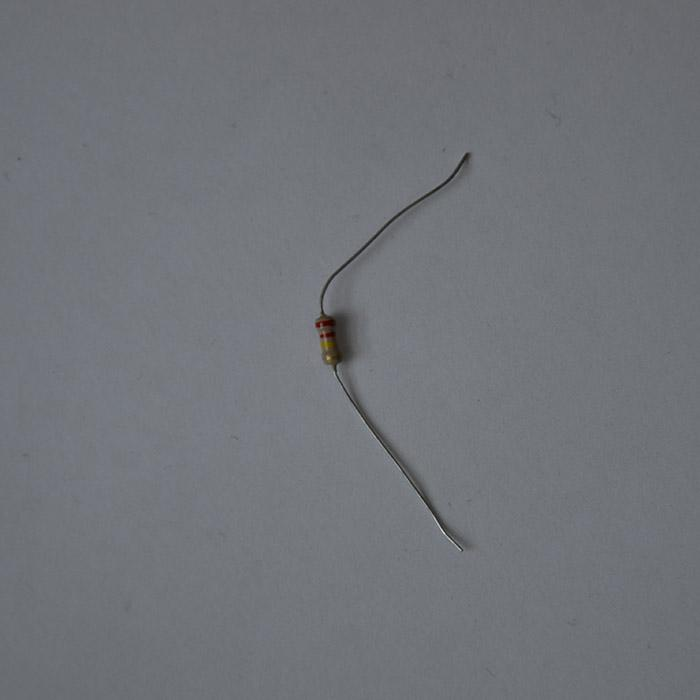resistor: (315, 312, 340, 366)
